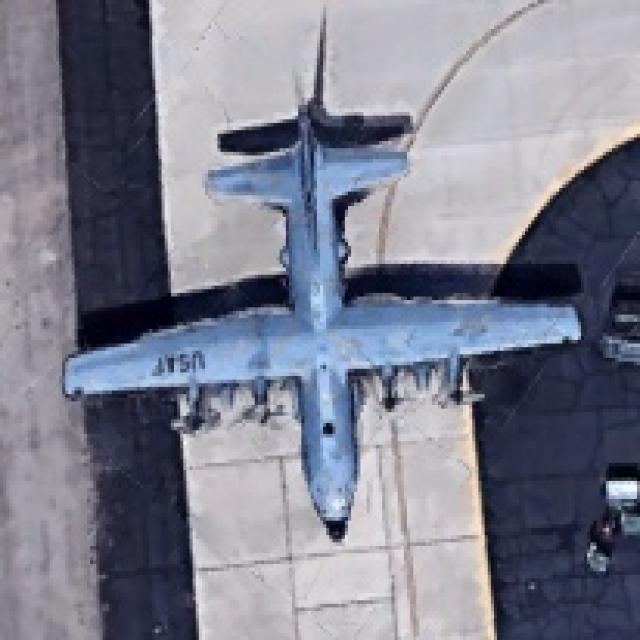C-130_TopDown: (60, 4, 592, 546)
